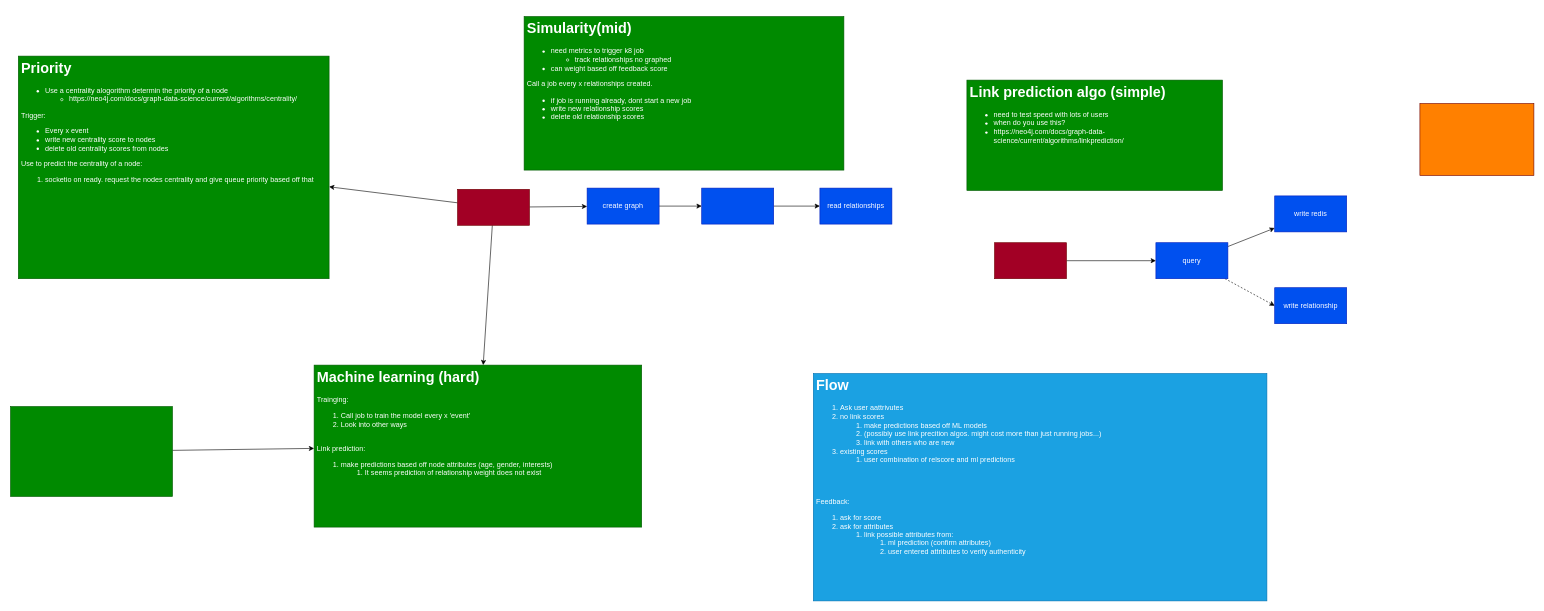
Image size: 1544x611. Some labels were removed from this diagram. The centre of each missing label's shape, as x and y in pixels:
k8 job: the point at 493,207
on demand: the point at 1030,260
Online learning feed new relationships to kafka. read the data in batches...: the point at 91,451
Score - should be a value [-1.1]: the point at 1476,139
write relationships: the point at 737,206
